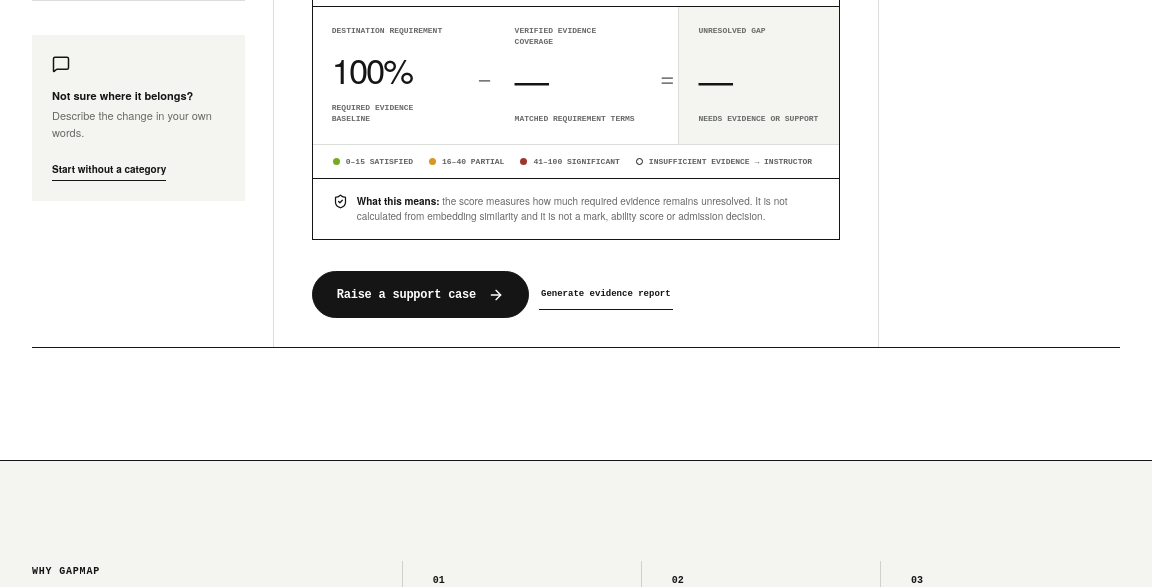
Scenario: GapMap learner support workspace › runs backend evidence analysis and renders its review data
(page scrolled)
What coordinates should you click on to do the following:
click the button "Generate evidence report"
I would click on:
 (606, 295)
Its box is [539,279,673,310].
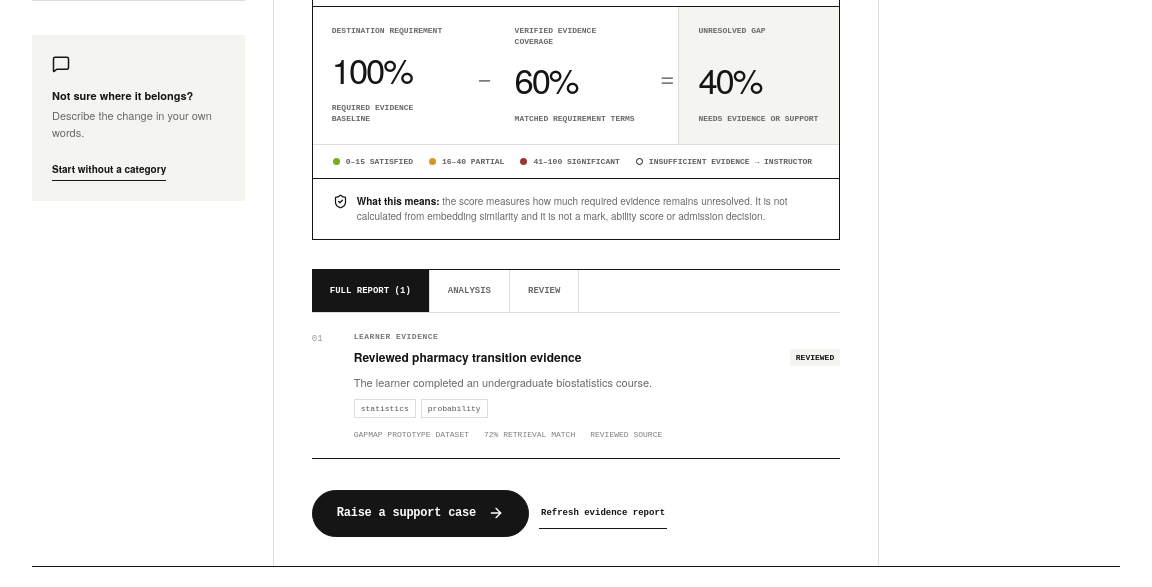
Check: the tab "Full report (1)" is shown, box [312,270,430,312]
Check: the text "Reviewed pharmacy transition evidence" is shown, box [354,349,581,365]
